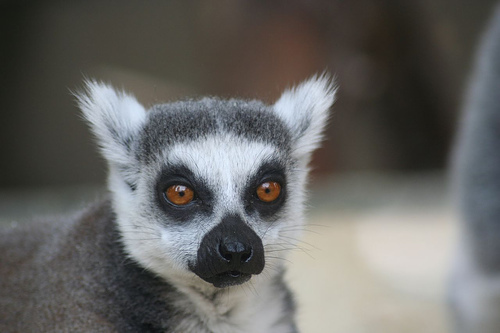cat: (0, 65, 343, 332)
